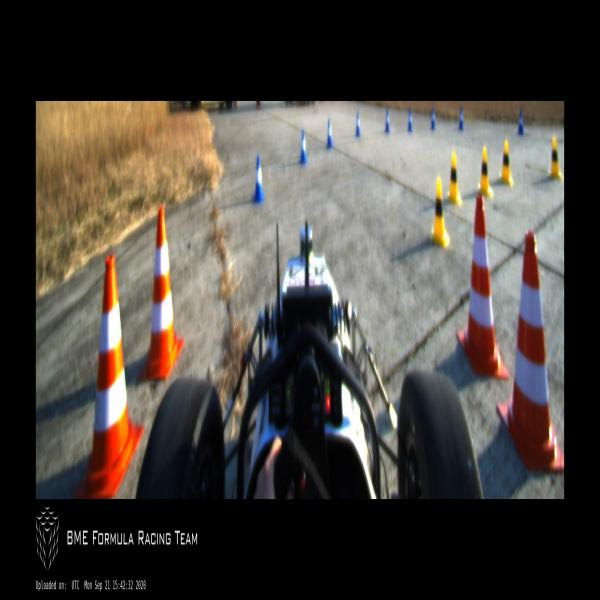blue_cone: (253, 154, 265, 205), (299, 131, 307, 163), (326, 118, 333, 150), (517, 110, 524, 136), (355, 112, 361, 138), (384, 108, 390, 133), (458, 107, 464, 130), (430, 108, 436, 130), (408, 108, 412, 133)
large_orange_cone: (73, 255, 142, 498), (496, 230, 564, 475), (456, 195, 510, 379), (138, 204, 184, 384)
yellow_cone: (429, 177, 449, 247), (445, 150, 462, 206), (476, 147, 493, 196), (547, 136, 563, 180), (499, 140, 513, 186)
